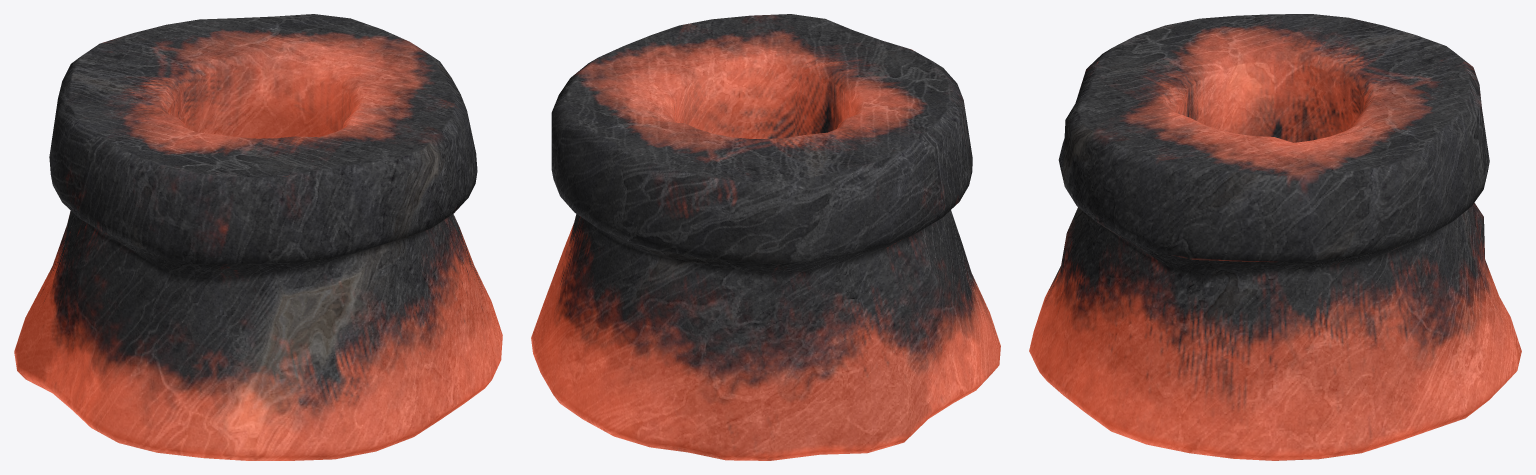
File: crisol.fbx
3 views of the same model, side by side, from view 1: azimuth 30°, elevation 25°; view 2: azimuth 150°, elevation 25°; view 3: azimuth 270°, elevation 25° (orthographic). The views are drawn at different scales.
Visible parts, largest first — view 1: Crisol; view 2: Crisol; view 3: Crisol.
Boxes of the visible parts, x1,y1,x2,y2 form: Crisol: (14, 14, 502, 460); Crisol: (531, 14, 1000, 460); Crisol: (1029, 14, 1521, 460).
Size of the model in its own units: 26.49 by 27.48 by 17.03.
Materials: 1 (1 with a texture image).
